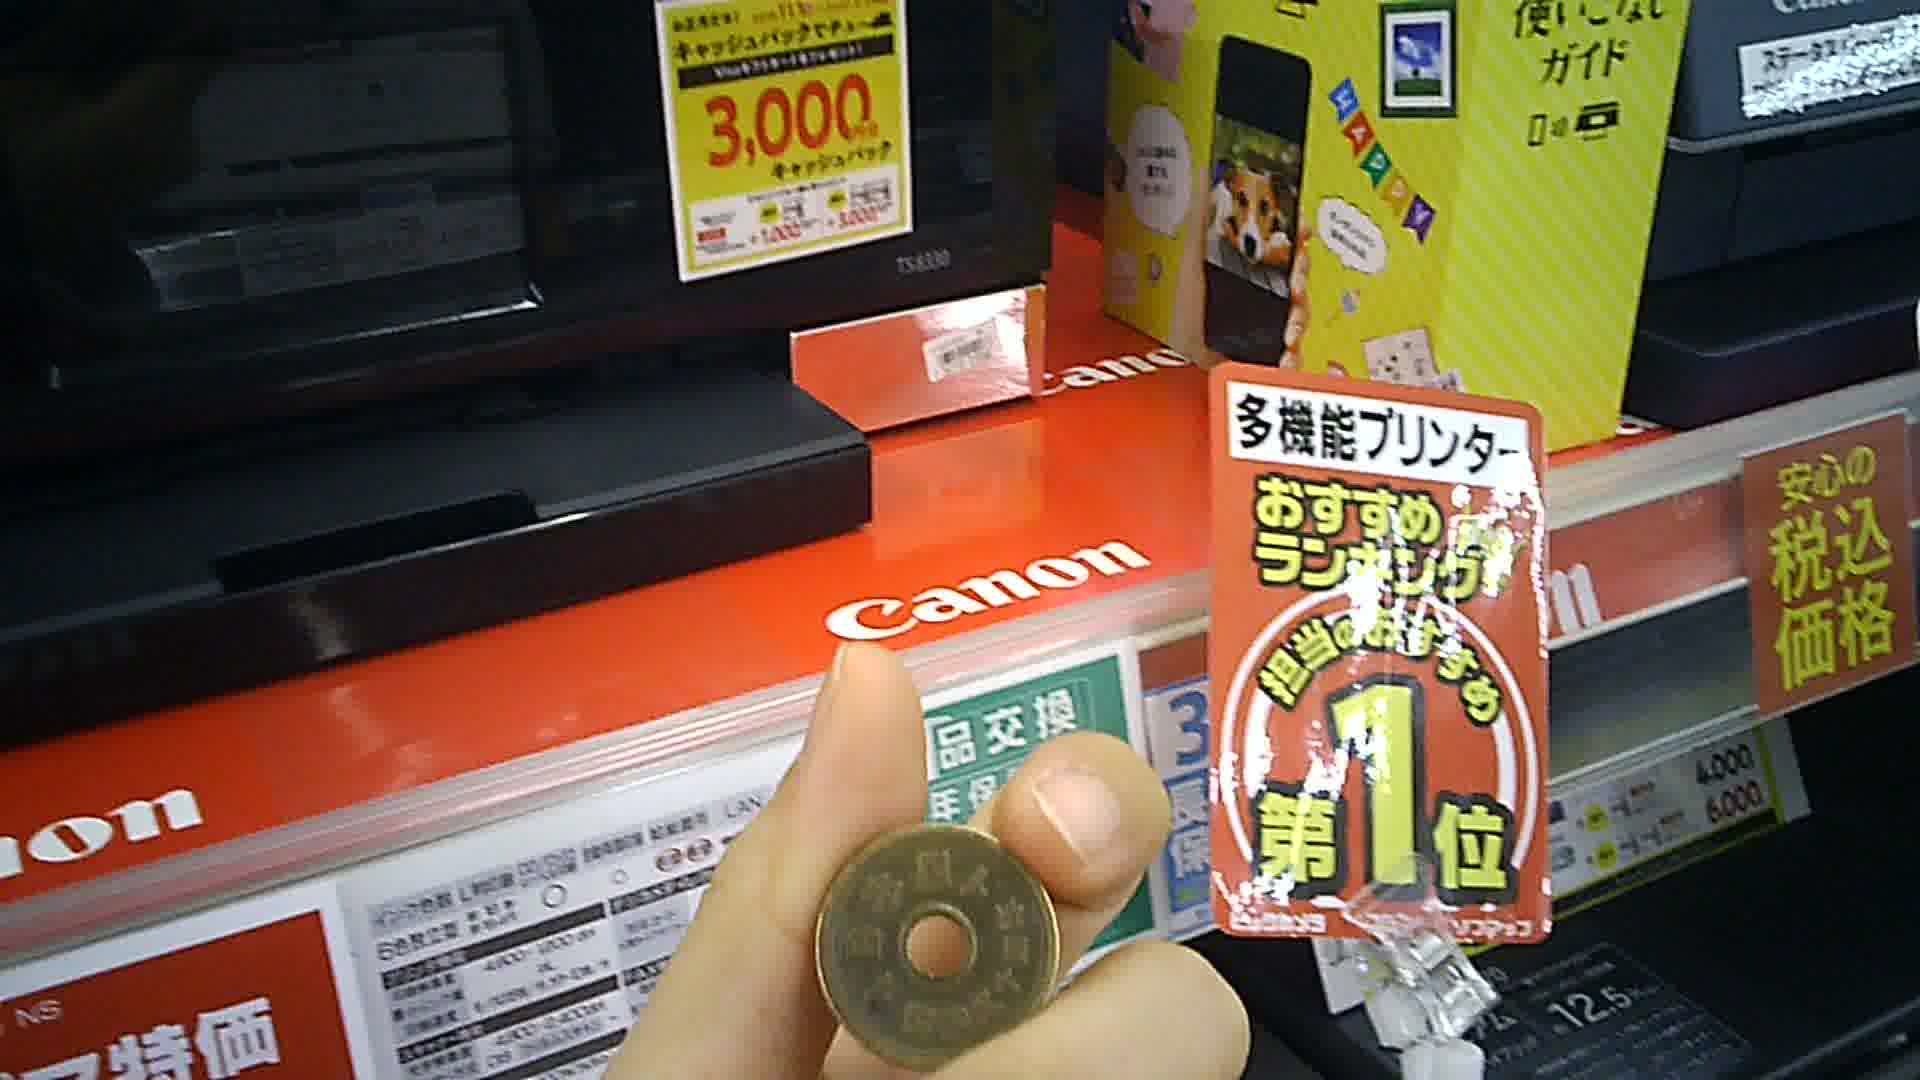5 Yen: (814, 812, 1060, 1079)
